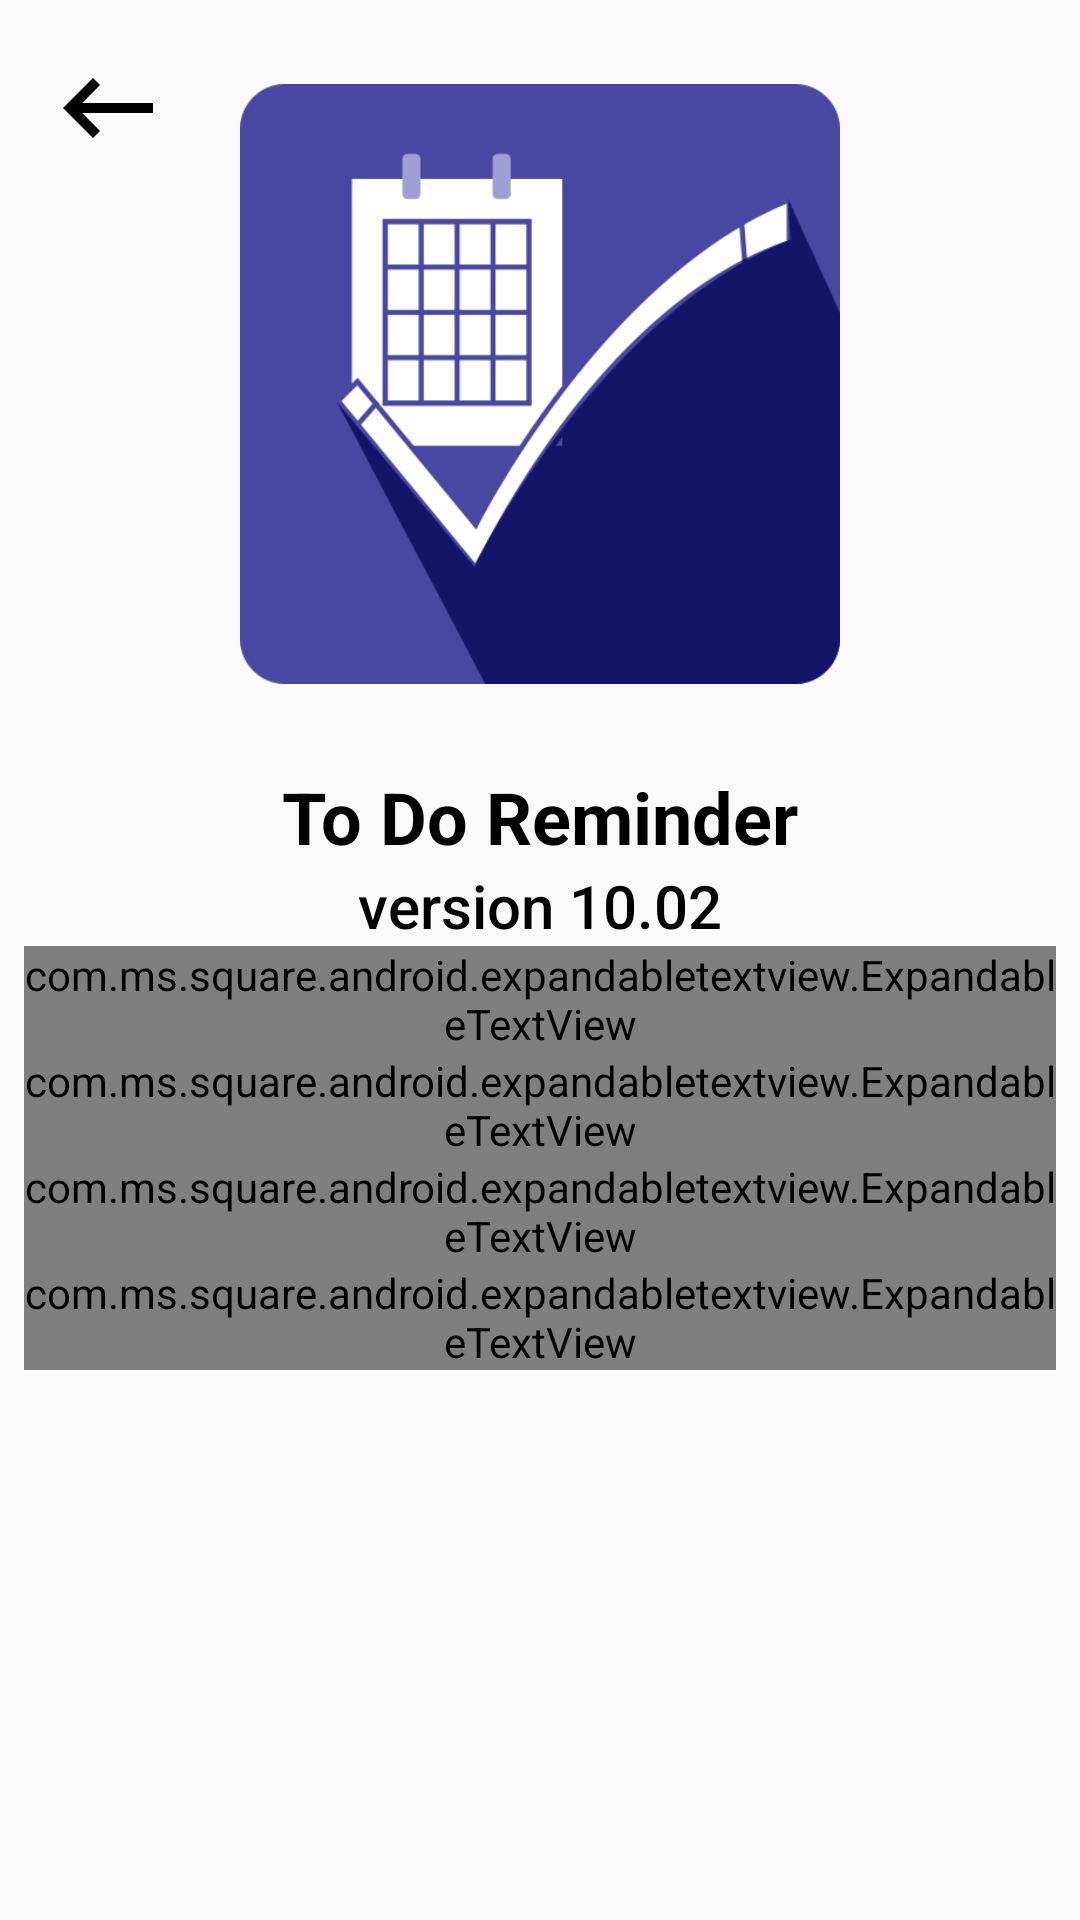

Icons on this 1080 x 1920 Android screen, each with the point to tap as (x=x, y=y):
keyboard backspace: (x=108, y=108)
